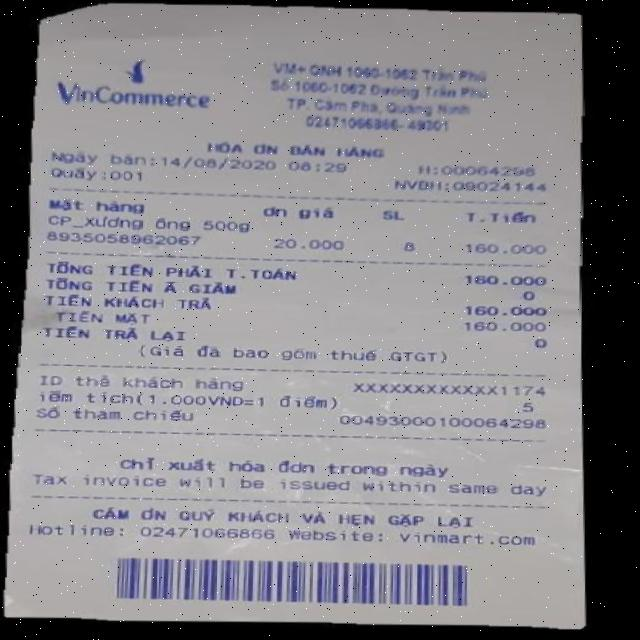Date: (156, 154, 278, 172)
Store_Name: (45, 78, 225, 116)
amount_number: (460, 272, 550, 286)
label_total: (41, 257, 309, 283)
